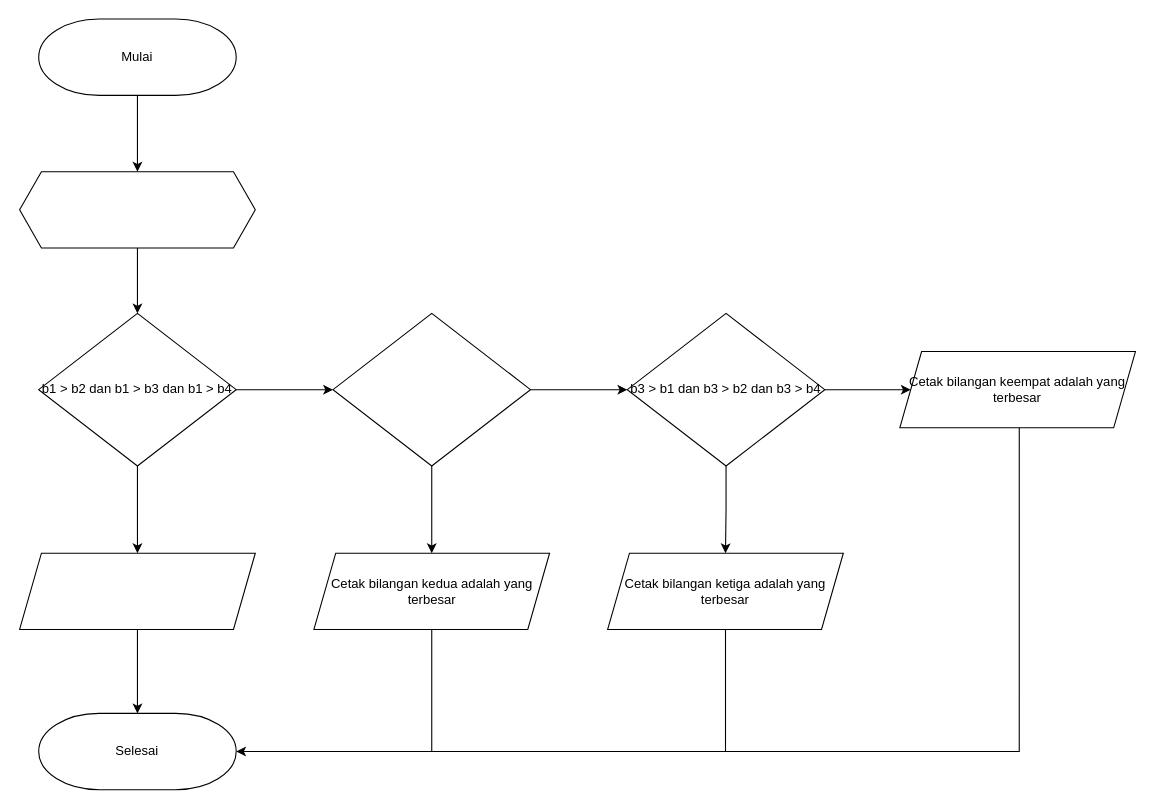
The diagram is 1154 pixels wide and 809 high, and some of its shapes have lost their labels. The shapes that lost their labels are listed below. From the top down, each one's box as (x1, y1, x2, y2) in pixels, then its label:
(19, 171, 255, 248): b1 = 60, b2 = 20, b3 = 100, b4 = 40
(332, 312, 531, 466): b2 > b1 dan b2 > b3 dan b2 > b4
(19, 552, 255, 629): Cetak bilangan pertama adalah yang terbesar
